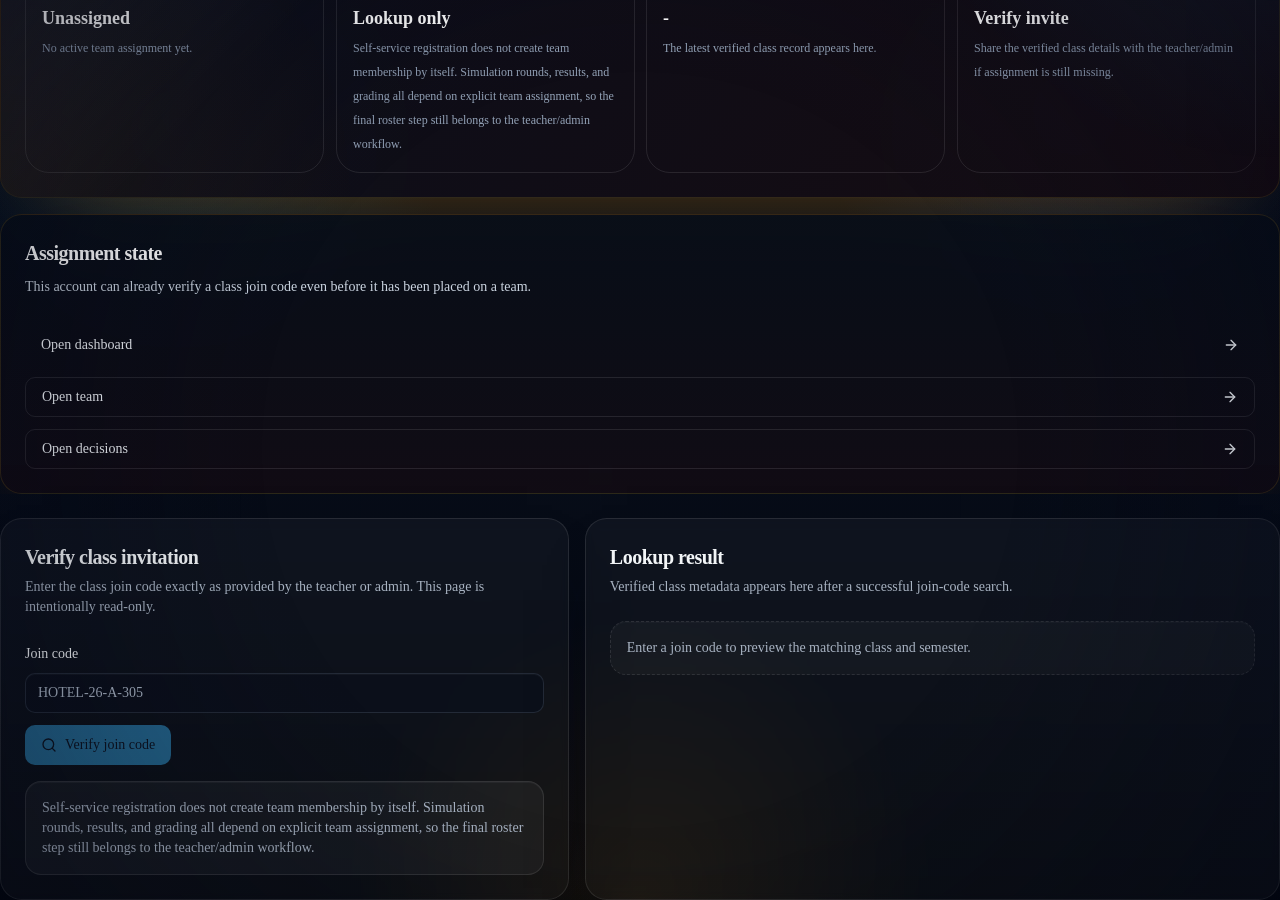
Test: StudentJoinClassPanel › shows the unassigned summary and the generic fallback when the lookup fails unexpectedly
This screenshot has width=1280, height=900.
(page scrolled)
Expected: the text "Unassigned" is shown, [42,8,130,28]
Type "bad-code" into the field labelled "Join code" at [284, 693], box [25,673,544,713]
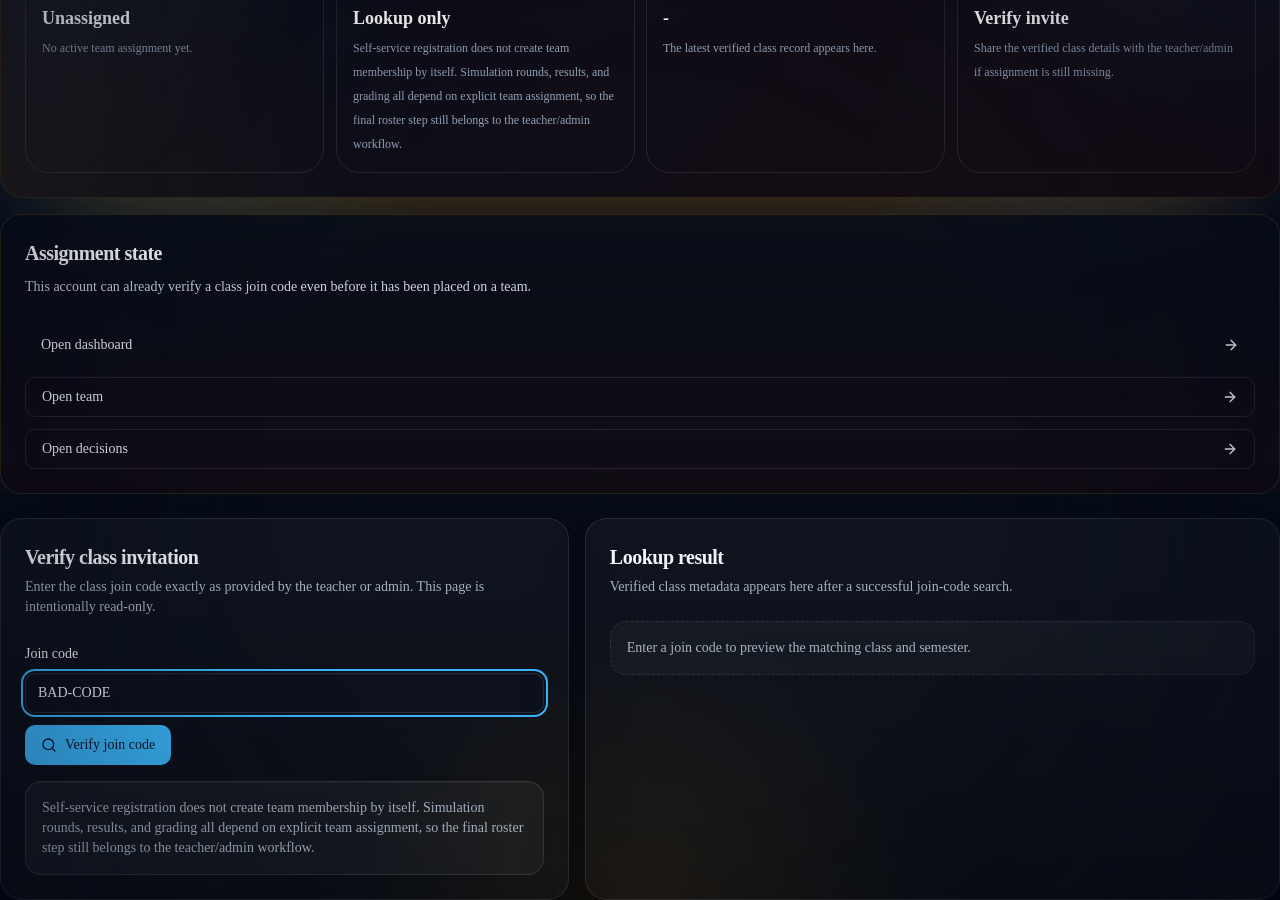
Click the button "Verify join code" at [98, 745], box [25,725,171,765]
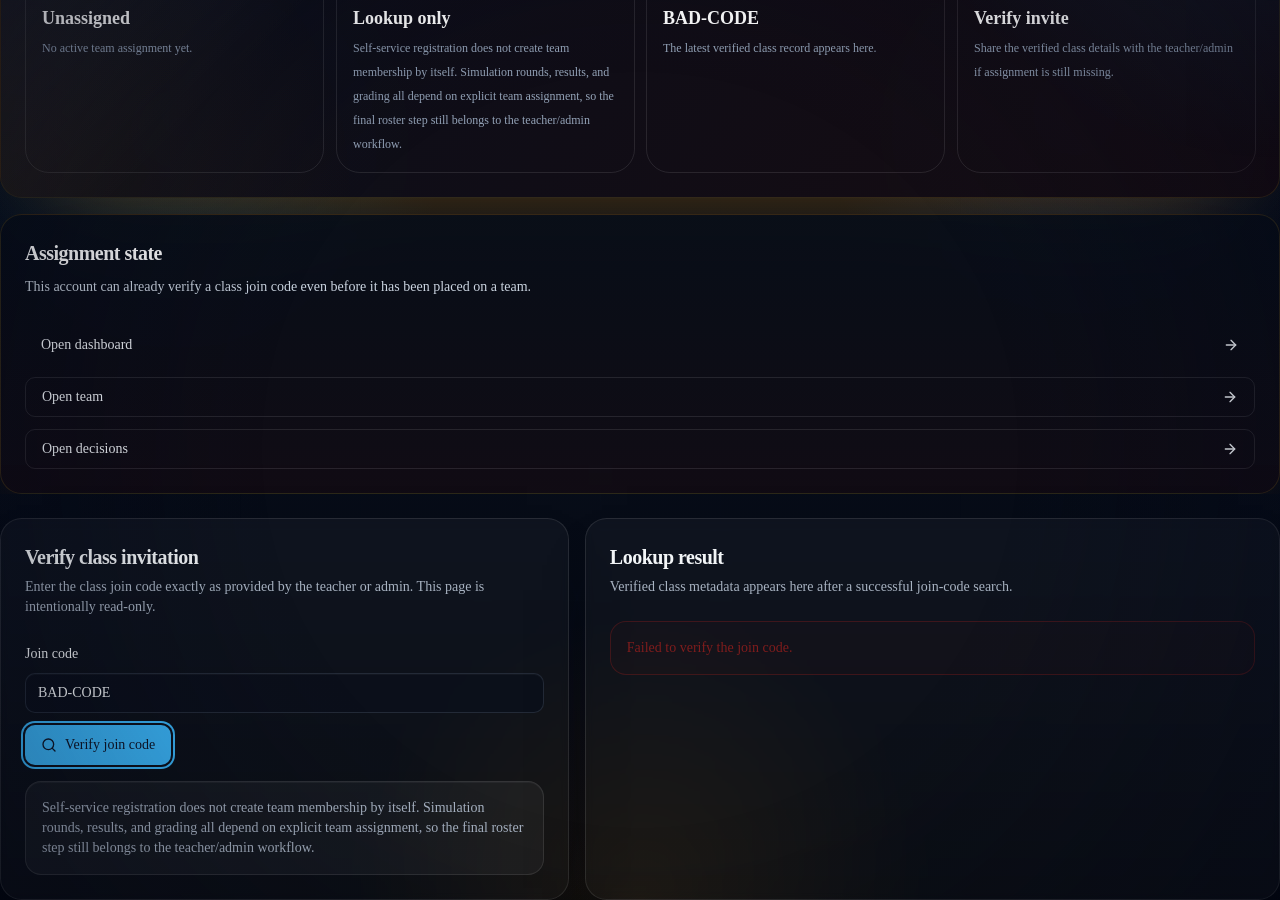
Result: the text "Failed to verify the join code." is shown at [610,621,1255,675]
